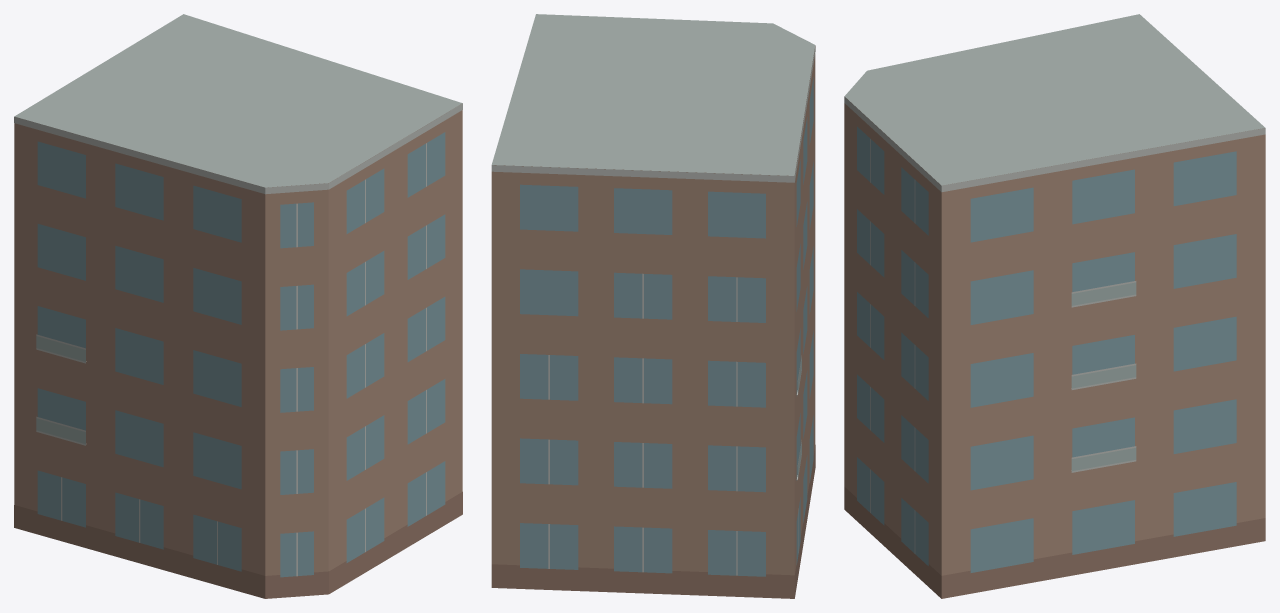
File: survey-upis-32774063.glb
3 views of the same model, side by side, from view 1: azimuth 30°, elevation 25°; view 2: azimuth 150°, elevation 25°; view 3: azimuth 270°, elevation 25° (orthographic). The views are drawn at different scales.
Visible parts, largest first — view 1: survey-upis-32774063.tmp; view 2: survey-upis-32774063.tmp; view 3: survey-upis-32774063.tmp.
Part boxes in pixels (left/top/right/bottom): survey-upis-32774063.tmp: left=14, top=14, right=462, bottom=598; survey-upis-32774063.tmp: left=491, top=14, right=815, bottom=598; survey-upis-32774063.tmp: left=844, top=14, right=1265, bottom=598.
Size of the model in its own units: 13.55 by 15.2 by 14.05.
